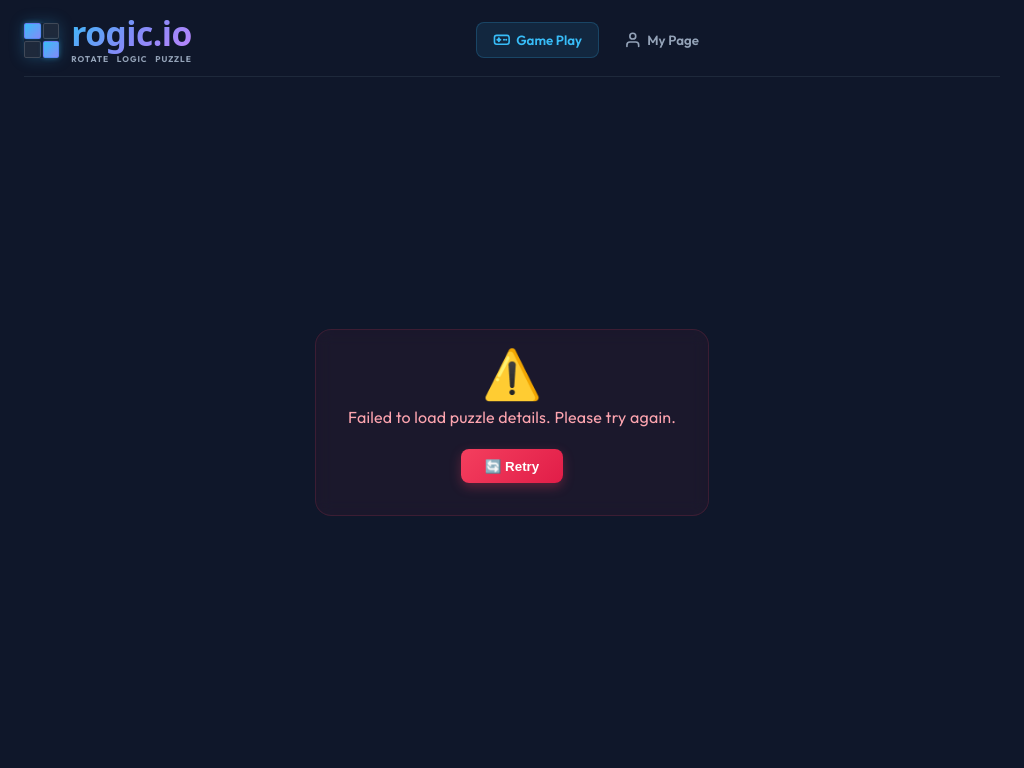
Test: App.vue Leaderboard Integration TDD › should display error message and retry button when stage load fails
expect the element with class "error-state" is shown: met, box x1=315 y1=329 x2=709 y2=516
expect the text with class "error-text" shows "Failed to load": met, box x1=348 y1=407 x2=676 y2=427
Click the button with class "retry-btn" at (512, 466), box x1=461 y1=449 x2=563 y2=483
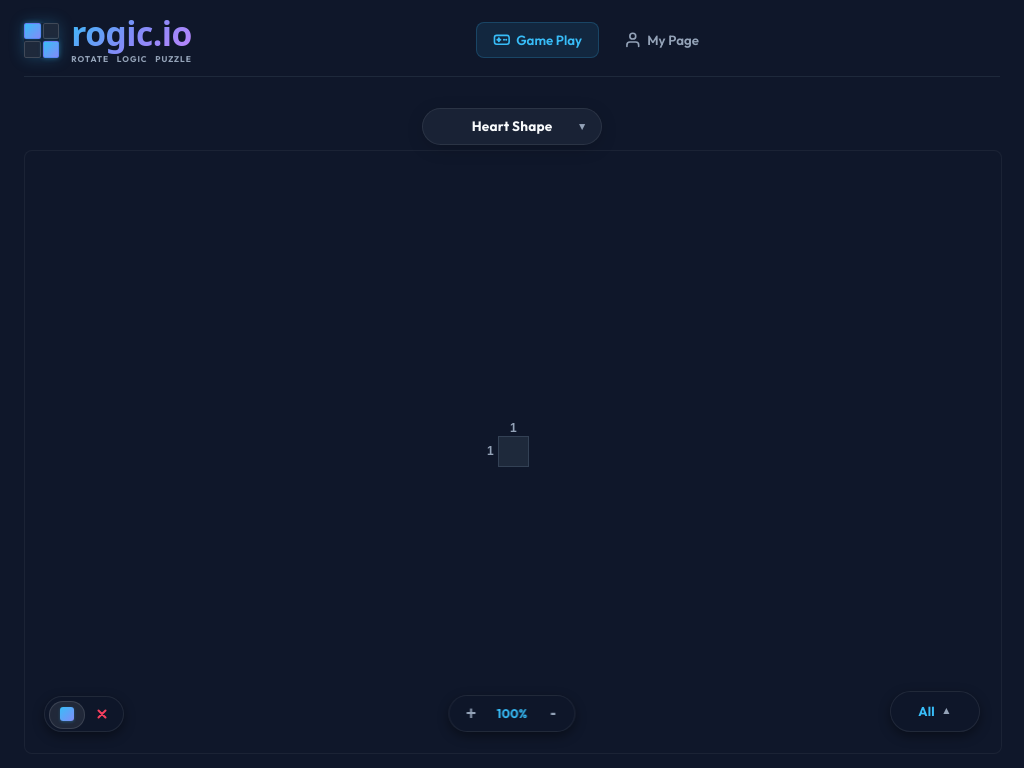
expect the element with class "canvas-wrapper-container" is shown: met
